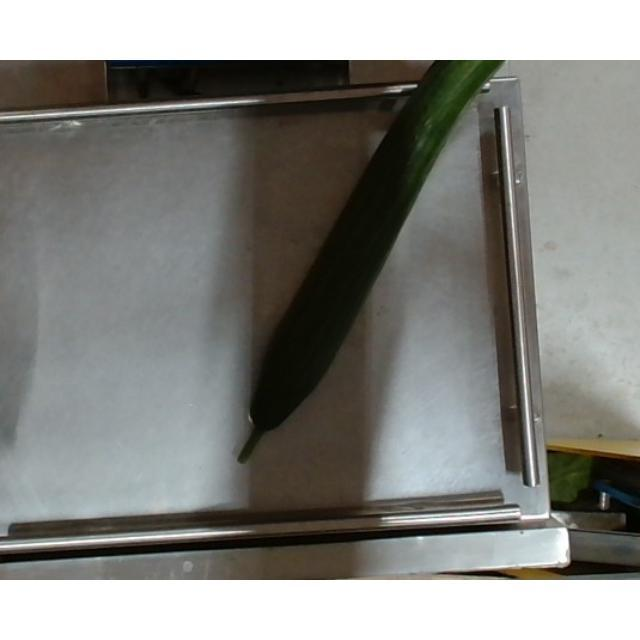cucumber: (238, 63, 526, 453)
